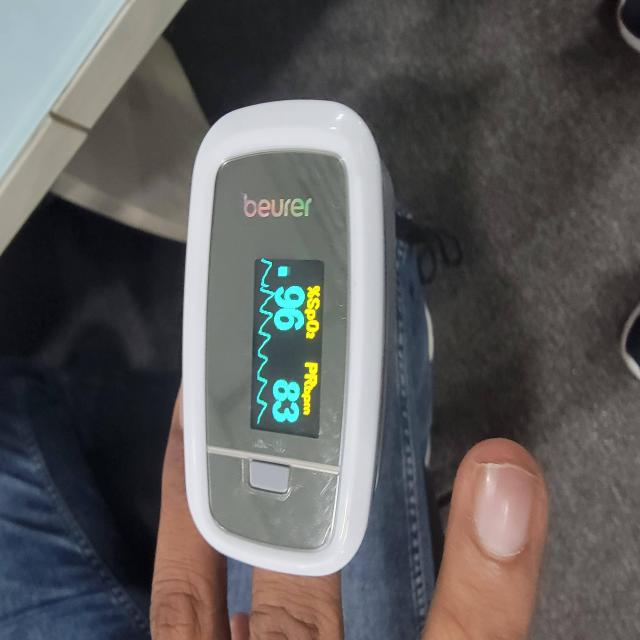spo2: (178, 100, 395, 580)
